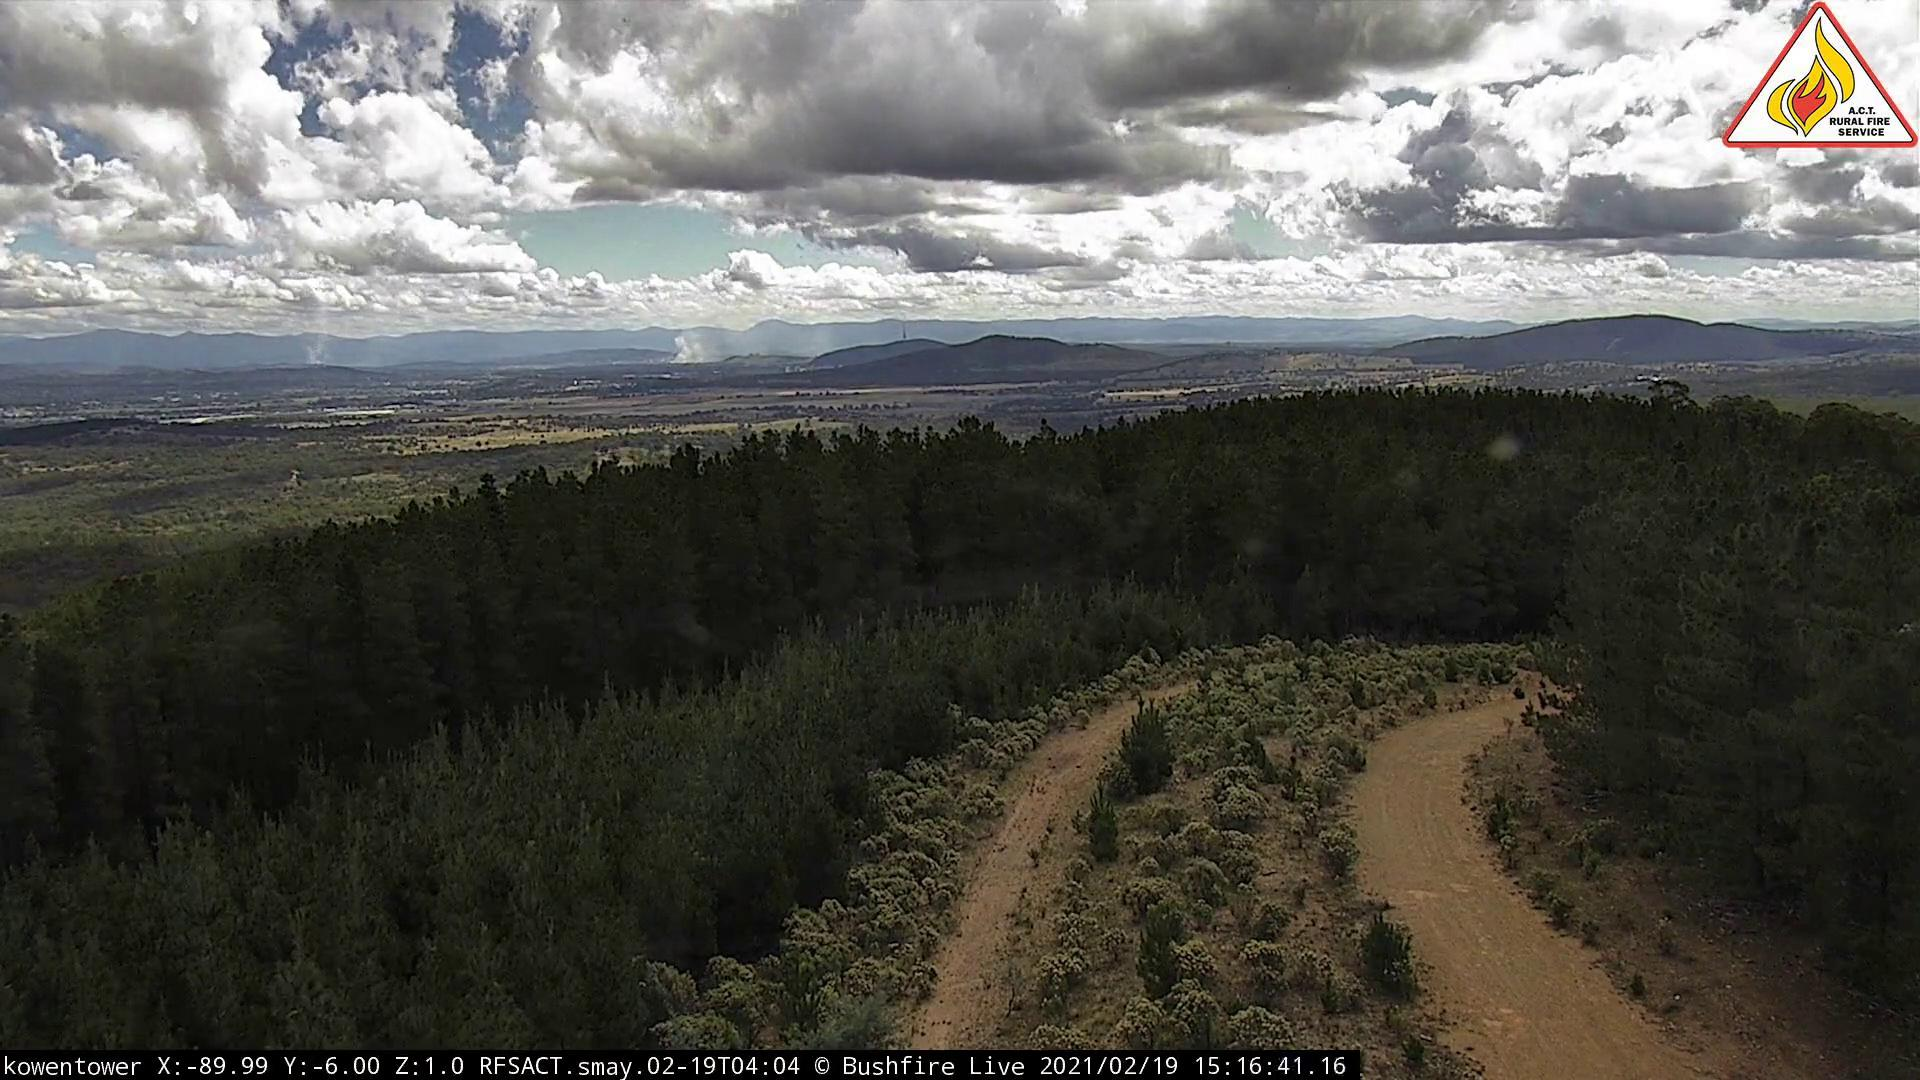instance_salient_object: (669, 314, 775, 371), (298, 313, 345, 372)
